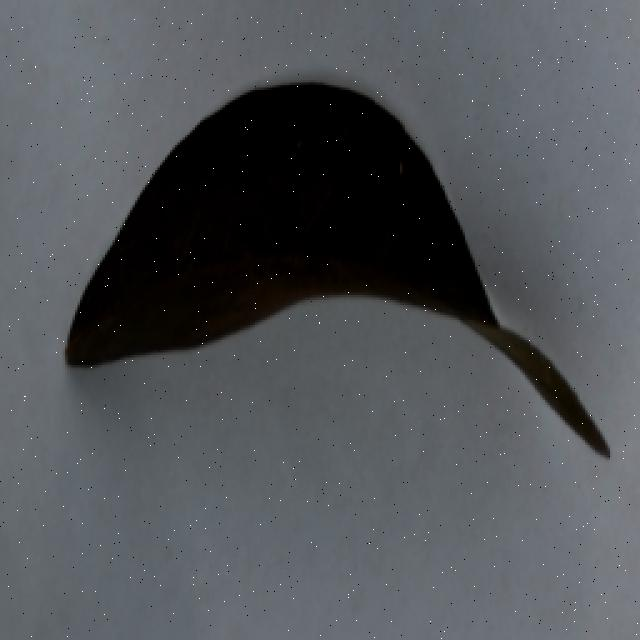healthy: (49, 73, 616, 481)
